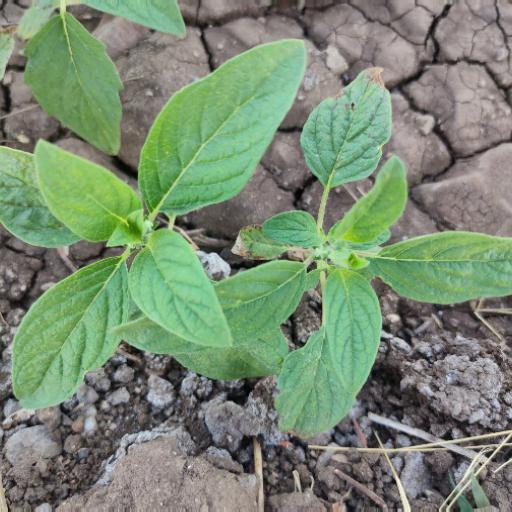crop: (201, 23, 512, 424), (1, 31, 282, 398)
